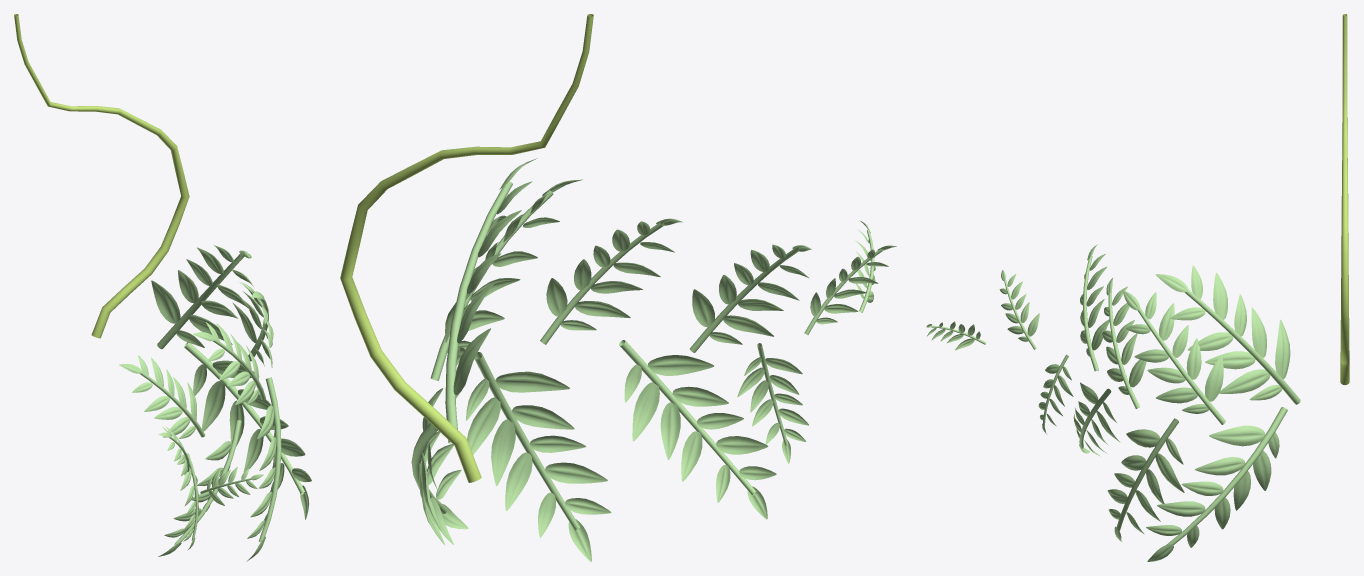
The model's file is cafd.fbx.
The picture shows the model from 3 angles, left to right: view 1: azimuth 30°, elevation 25°; view 2: azimuth 150°, elevation 25°; view 3: azimuth 270°, elevation 25°; orthographic projection. The views are drawn at different scales.
Parts seen in each view (by area): view 1: Vert.002, Vert.001, gun, Vert.007, Vert.003, Vert.006, Vert.005, Vert.004, Vert.010, Vert.009, Vert.008; view 2: Vert.003, Vert.005, gun, Vert.001, Vert.006, Vert.007, Vert.002, Vert.004, Vert.009, Vert.008; view 3: Vert.001, Vert.002, Vert.004, Vert.003, gun, Vert.006, Vert.007, Vert.005, Vert.008, Vert.009, Vert.010.
Boxes of the visible parts, x1=… form: Vert.002: x1=184, y1=342, x2=311, y2=519; Vert.001: x1=151, y1=245, x2=253, y2=348; gun: x1=14, y1=14, x2=189, y2=338; Vert.007: x1=119, y1=355, x2=205, y2=438; Vert.003: x1=246, y1=377, x2=281, y2=561; Vert.006: x1=193, y1=322, x2=265, y2=404; Vert.005: x1=158, y1=420, x2=241, y2=556; Vert.004: x1=232, y1=282, x2=273, y2=367; Vert.010: x1=200, y1=467, x2=263, y2=505; Vert.009: x1=180, y1=453, x2=198, y2=550; Vert.008: x1=158, y1=426, x2=189, y2=475; Vert.003: x1=466, y1=352, x2=611, y2=561; Vert.005: x1=619, y1=340, x2=776, y2=519; gun: x1=340, y1=14, x2=593, y2=482; Vert.001: x1=445, y1=158, x2=537, y2=443; Vert.006: x1=540, y1=218, x2=682, y2=344; Vert.007: x1=690, y1=244, x2=811, y2=352; Vert.002: x1=411, y1=388, x2=468, y2=545; Vert.004: x1=430, y1=179, x2=582, y2=380; Vert.009: x1=737, y1=343, x2=808, y2=463; Vert.008: x1=804, y1=245, x2=896, y2=334; Vert.001: x1=1155, y1=265, x2=1300, y2=404; Vert.002: x1=1146, y1=407, x2=1287, y2=561; Vert.004: x1=1123, y1=290, x2=1225, y2=424; Vert.003: x1=1107, y1=418, x2=1184, y2=541; gun: x1=1340, y1=14, x2=1349, y2=384; Vert.006: x1=1102, y1=278, x2=1146, y2=408; Vert.007: x1=1080, y1=244, x2=1109, y2=371; Vert.005: x1=1073, y1=382, x2=1120, y2=456; Vert.008: x1=999, y1=270, x2=1039, y2=349; Vert.009: x1=1038, y1=354, x2=1073, y2=434; Vert.010: x1=926, y1=321, x2=986, y2=350.
Bounding box in the file's own units: 2769 × 5591 × 4534.
